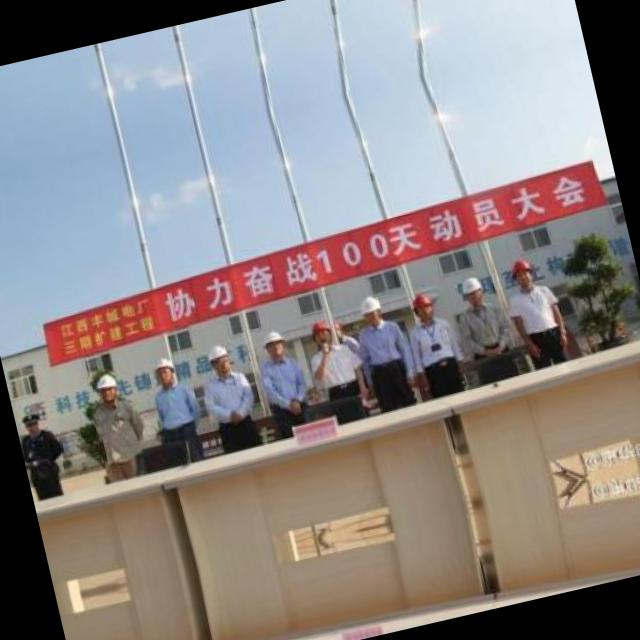helmet: (250, 326, 290, 364), (200, 336, 233, 378), (502, 252, 536, 290), (304, 310, 336, 350), (403, 286, 438, 322), (90, 369, 122, 408), (352, 291, 384, 327), (148, 353, 178, 391), (456, 272, 488, 307)
